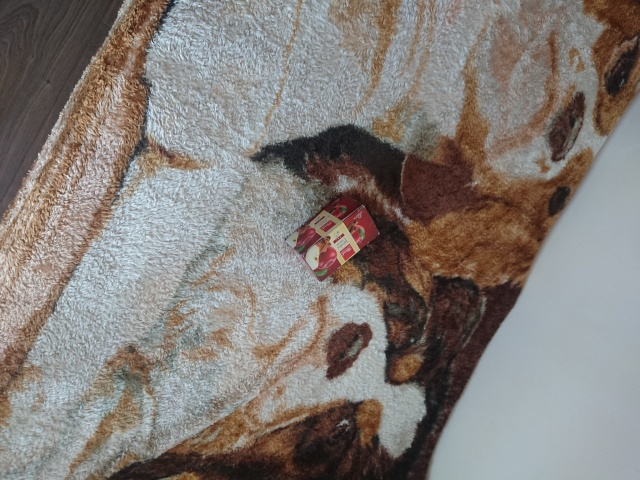Franck Apple Cinnamon Tea 60g: (282, 190, 381, 283)
